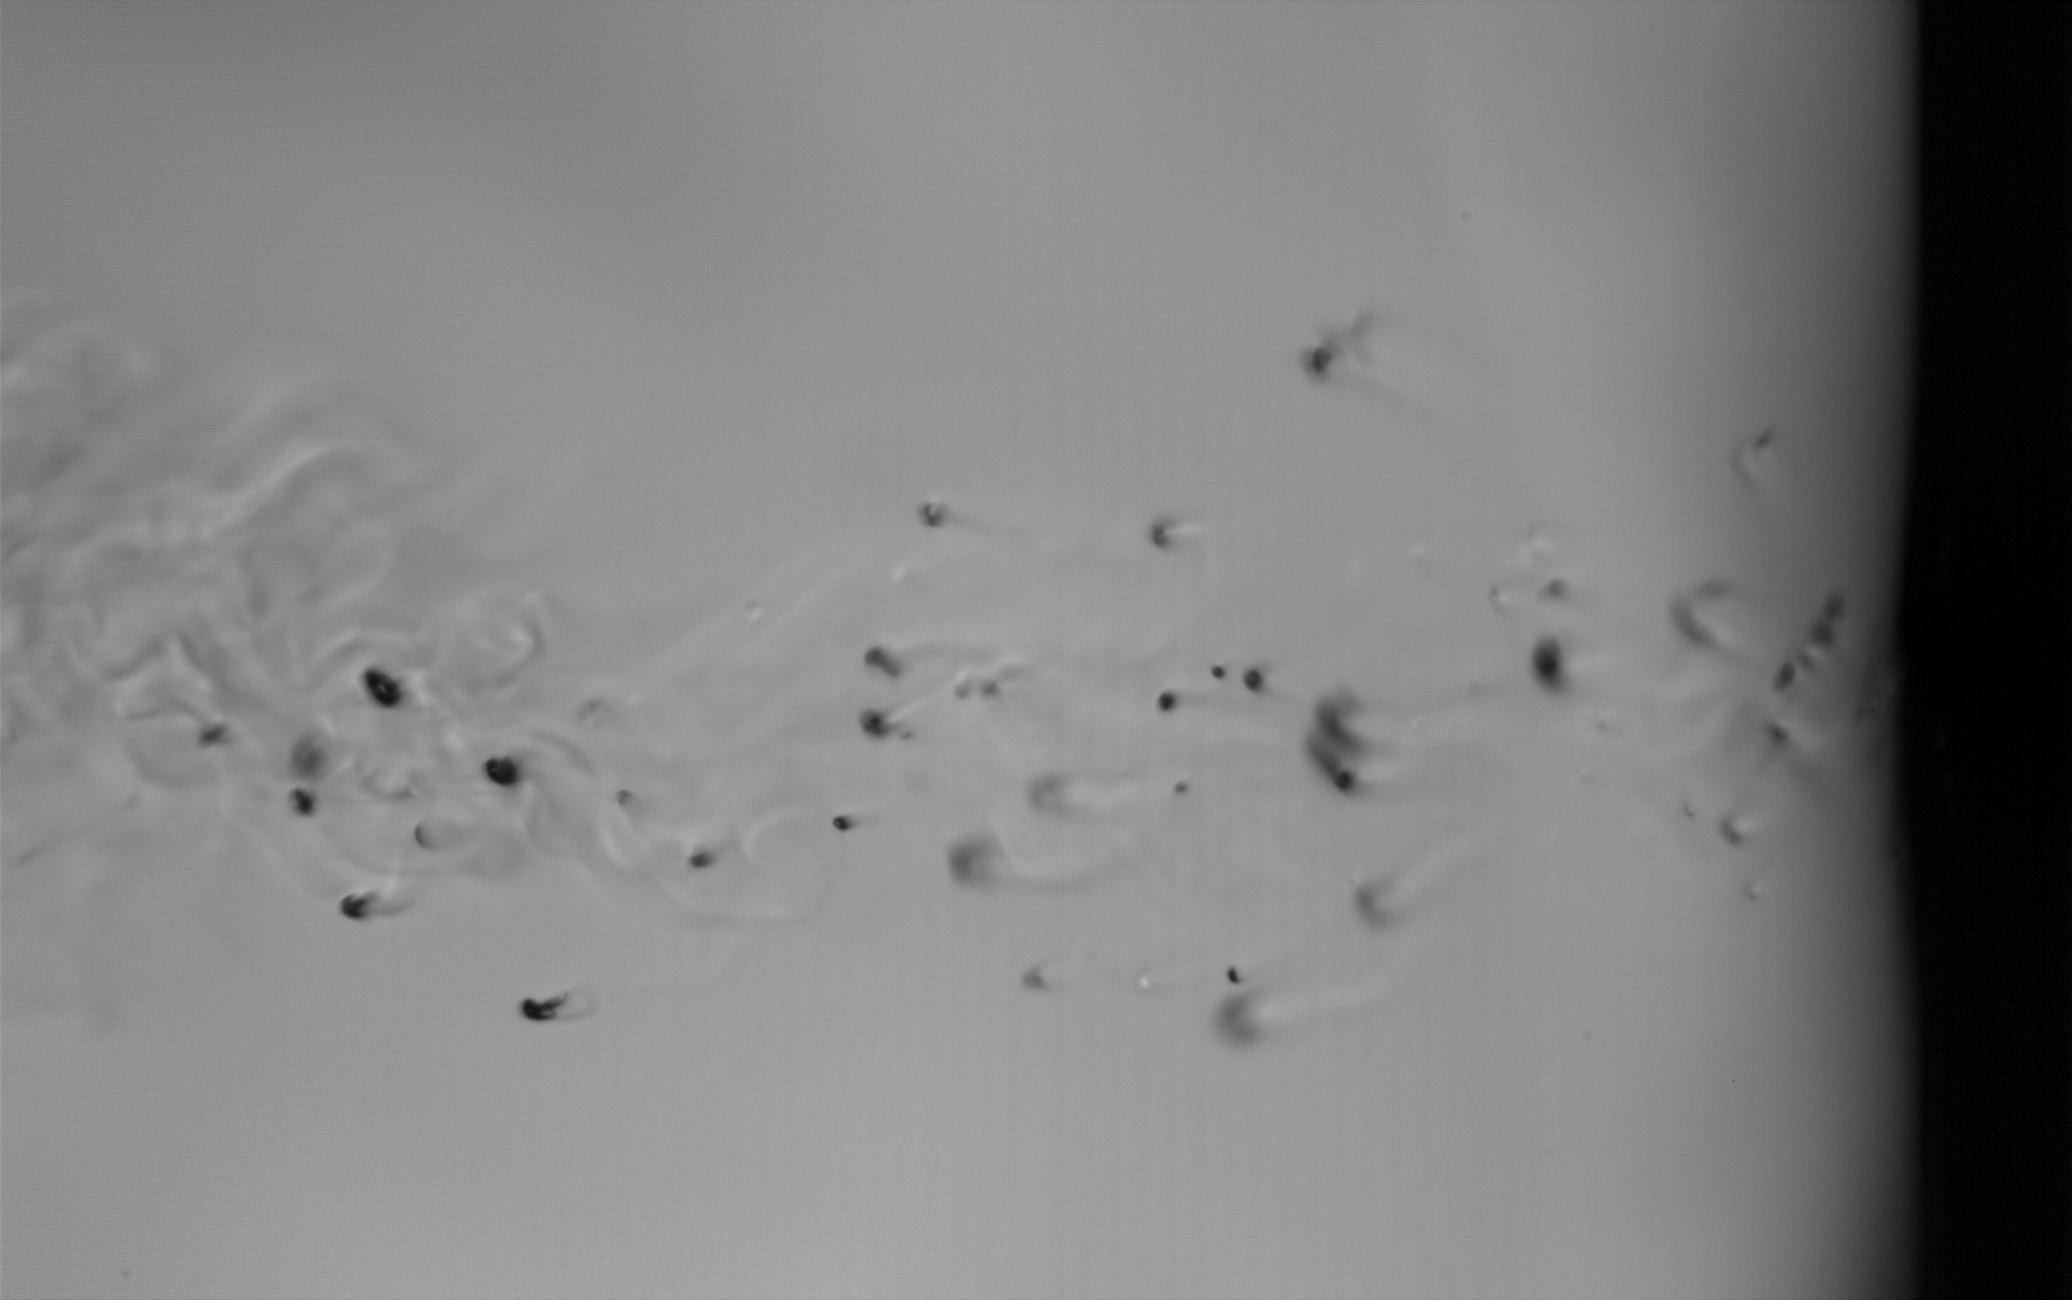Blurry: (1311, 681, 1370, 756), (1668, 580, 1729, 650), (1302, 735, 1343, 776), (518, 994, 567, 1024), (859, 710, 903, 740), (862, 643, 901, 675), (337, 891, 377, 921), (1148, 512, 1175, 554), (412, 816, 440, 855), (1305, 344, 1332, 374), (918, 503, 946, 529), (1174, 780, 1195, 795)
ClassicalEvaporation: (484, 753, 521, 792), (1154, 686, 1184, 717), (689, 845, 716, 872), (1243, 666, 1267, 692), (1334, 768, 1358, 792), (1210, 663, 1225, 680)
TransitionalMixing: (355, 660, 409, 716), (1532, 634, 1564, 690), (822, 812, 859, 837), (289, 780, 314, 818), (1761, 719, 1788, 747), (1777, 663, 1797, 690), (1225, 965, 1244, 985)
